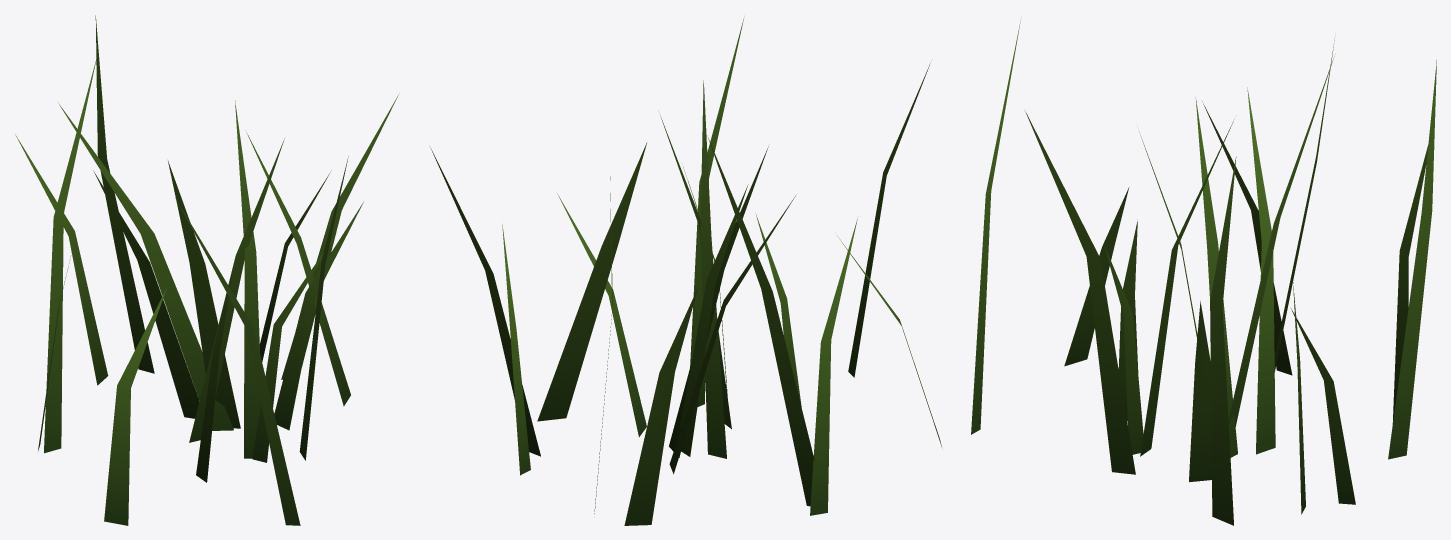
The model's file is tuft_0_lod1.glb.
3 views of the same model, side by side, from view 1: azimuth 30°, elevation 25°; view 2: azimuth 150°, elevation 25°; view 3: azimuth 270°, elevation 25° (orthographic). The views are drawn at different scales.
Parts seen in each view (by area): view 1: GrassTuft_0_LOD1; view 2: GrassTuft_0_LOD1; view 3: GrassTuft_0_LOD1.
Part boxes in pixels (x1,y1,x2,y2): GrassTuft_0_LOD1: (15,15,399,525); GrassTuft_0_LOD1: (430,17,941,525); GrassTuft_0_LOD1: (971,19,1436,525).
Bounding box in the file's own units: 0.3271 × 0.2849 × 0.3116.
